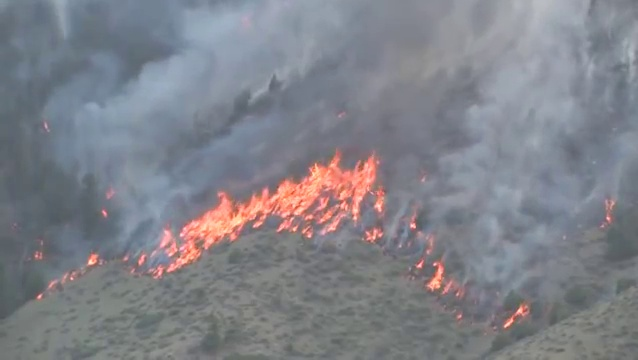fire: (157, 152, 382, 275), (428, 263, 443, 290), (515, 305, 527, 316), (89, 254, 97, 264)
